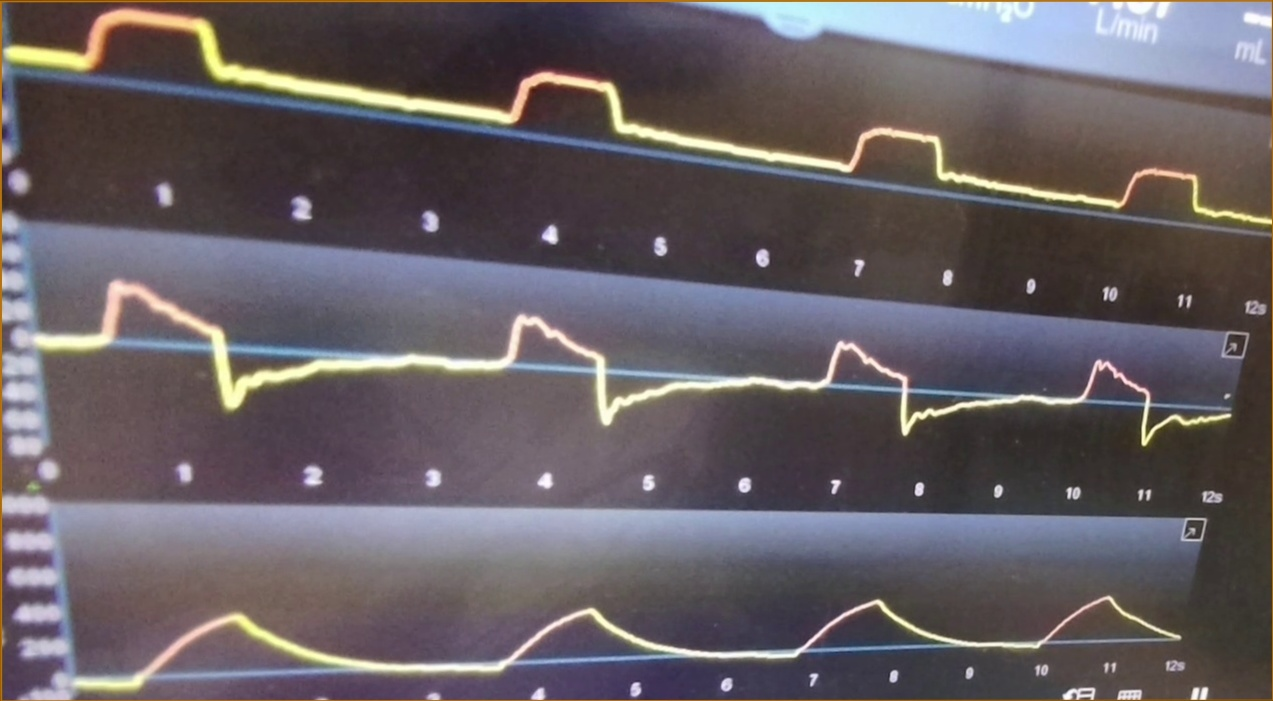Accumulation Flow: (40, 275, 1231, 449)
Volume: (76, 566, 1180, 689)
